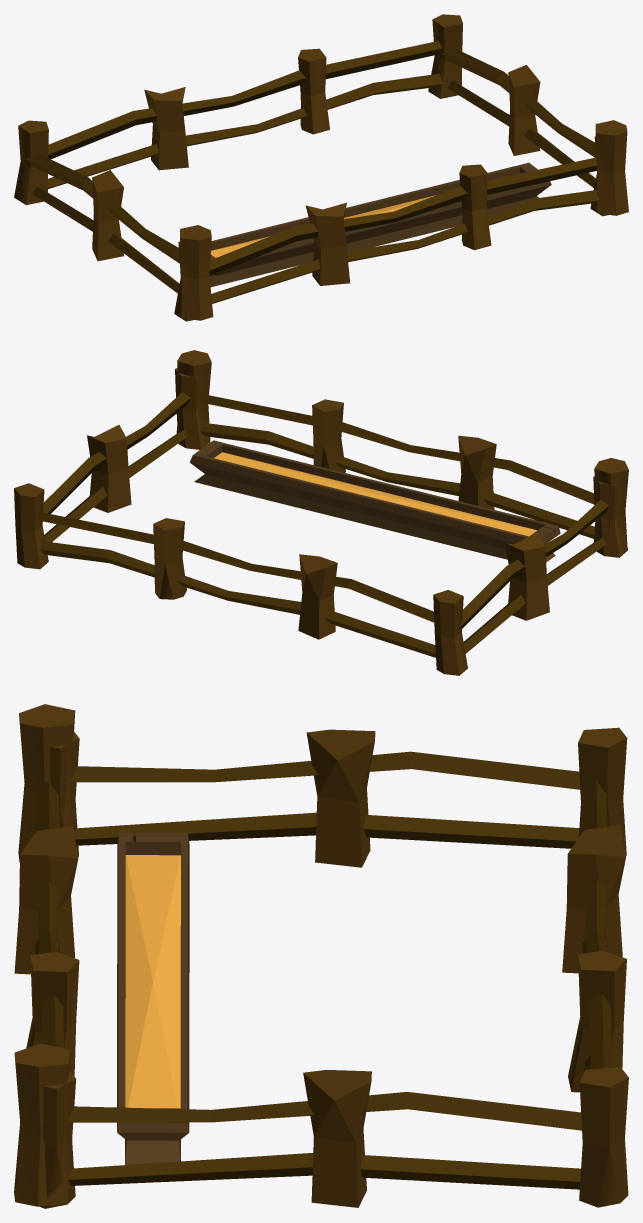
Rendered from sheep-fence.glb.
3 renders of one model, top to bottom at view 1: azimuth 30°, elevation 25°; view 2: azimuth 150°, elevation 25°; view 3: azimuth 270°, elevation 25°, orthographic. The views are drawn at different scales.
Parts seen in each view (by area): view 1: fence; view 2: fence; view 3: fence.
Boxes of the visible parts, box(x1,y1,x2,y2) form: fence: box(14, 14, 628, 321); fence: box(14, 350, 628, 675); fence: box(14, 704, 628, 1208).
Size of the model in its own units: 7.1 by 1.33 by 4.91.
